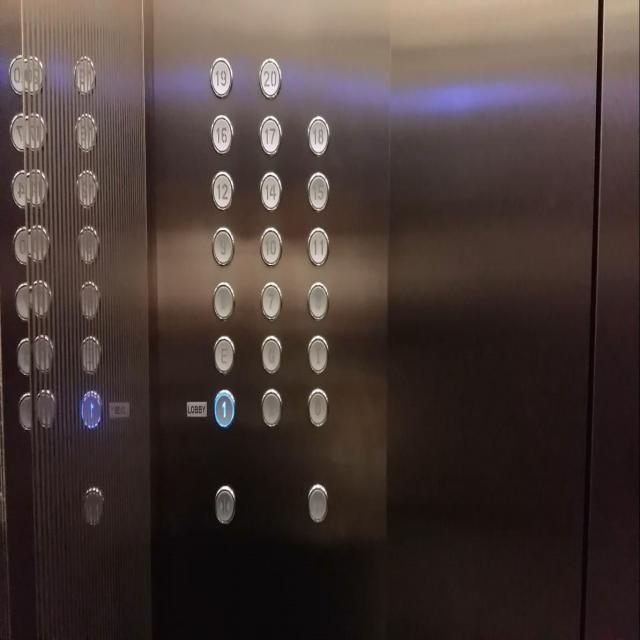0: (306, 385, 332, 430)
1: (212, 387, 236, 428)
10: (258, 223, 284, 269)
11: (305, 222, 331, 270)
12: (209, 167, 235, 213)
14: (258, 168, 283, 214)
15: (305, 167, 331, 215)
16: (208, 110, 234, 158)
17: (257, 112, 283, 159)
18: (305, 114, 331, 158)
19: (208, 53, 234, 101)
20: (257, 53, 283, 102)
7: (258, 278, 284, 324)
8: (304, 278, 330, 324)
9: (210, 223, 236, 269)
E: (210, 331, 238, 377)
G: (259, 332, 284, 376)
I: (306, 332, 329, 376)
blur: (305, 480, 330, 526), (211, 278, 236, 322)
close: (212, 482, 237, 528)
empty: (259, 386, 284, 430)
unknown: (80, 482, 106, 526), (72, 51, 96, 98), (78, 387, 103, 431), (73, 110, 98, 153), (76, 278, 102, 319), (74, 168, 100, 208), (76, 223, 100, 264), (79, 332, 101, 376)
